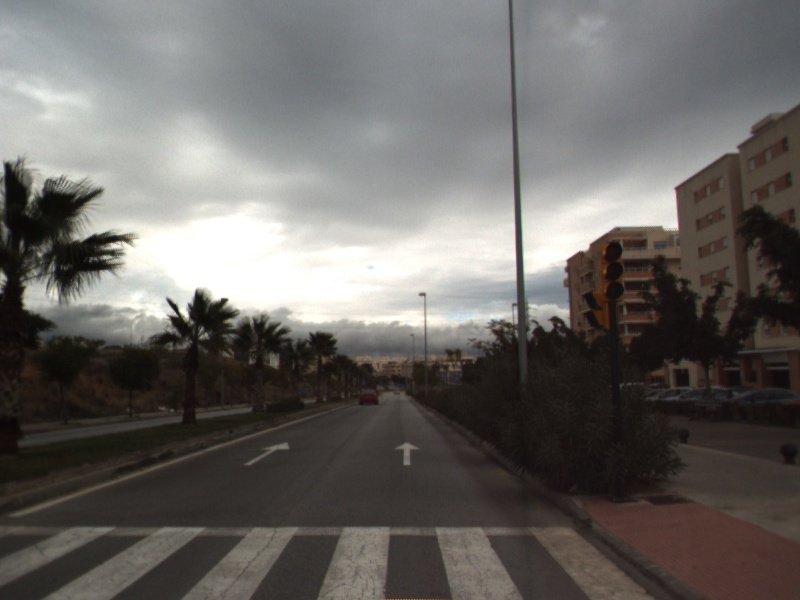STRAIGHT: (242, 441, 292, 467), (393, 440, 422, 467)
